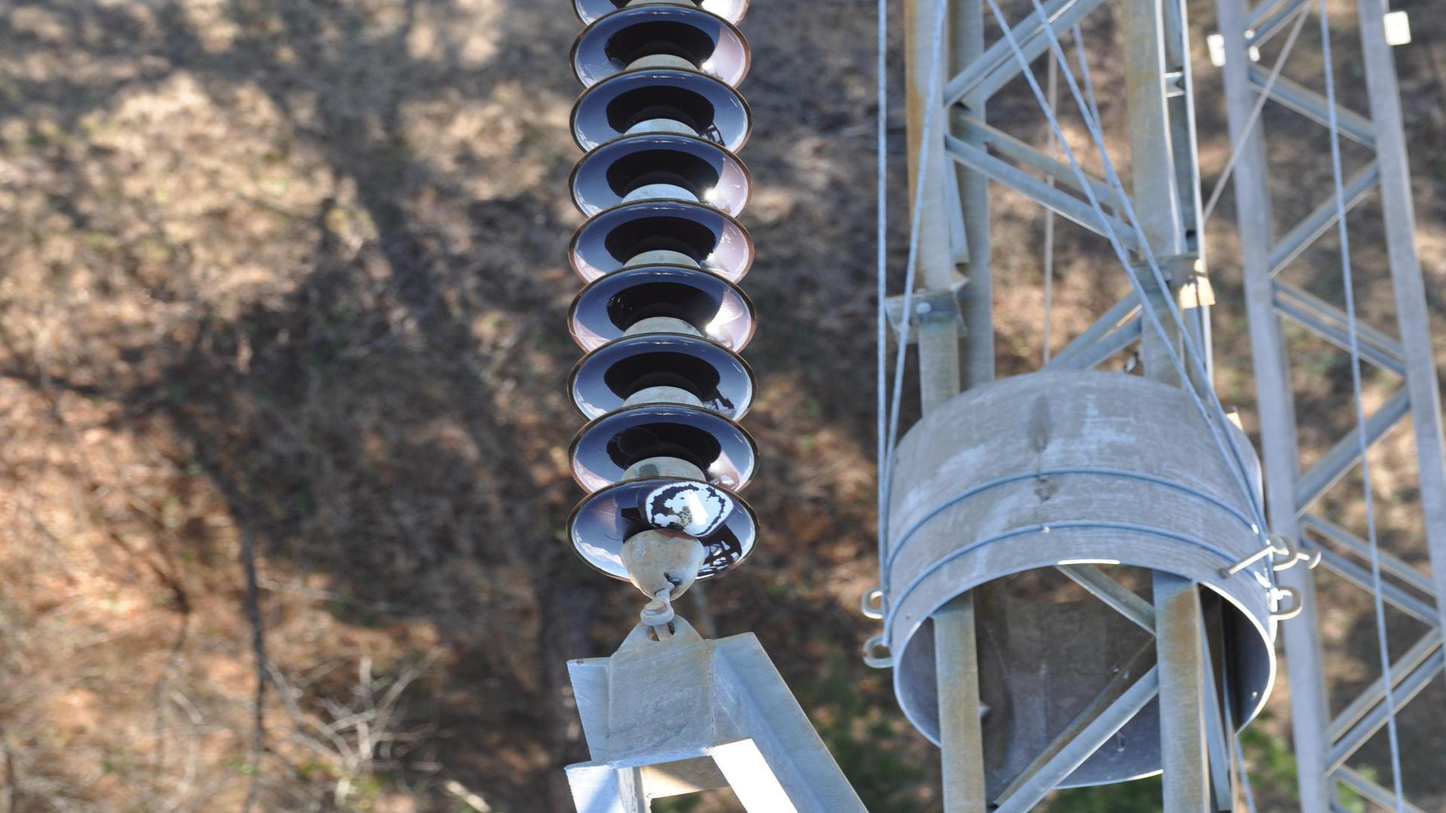insulator: (559, 1, 764, 593)
insulator_flashover: (642, 476, 734, 540)
